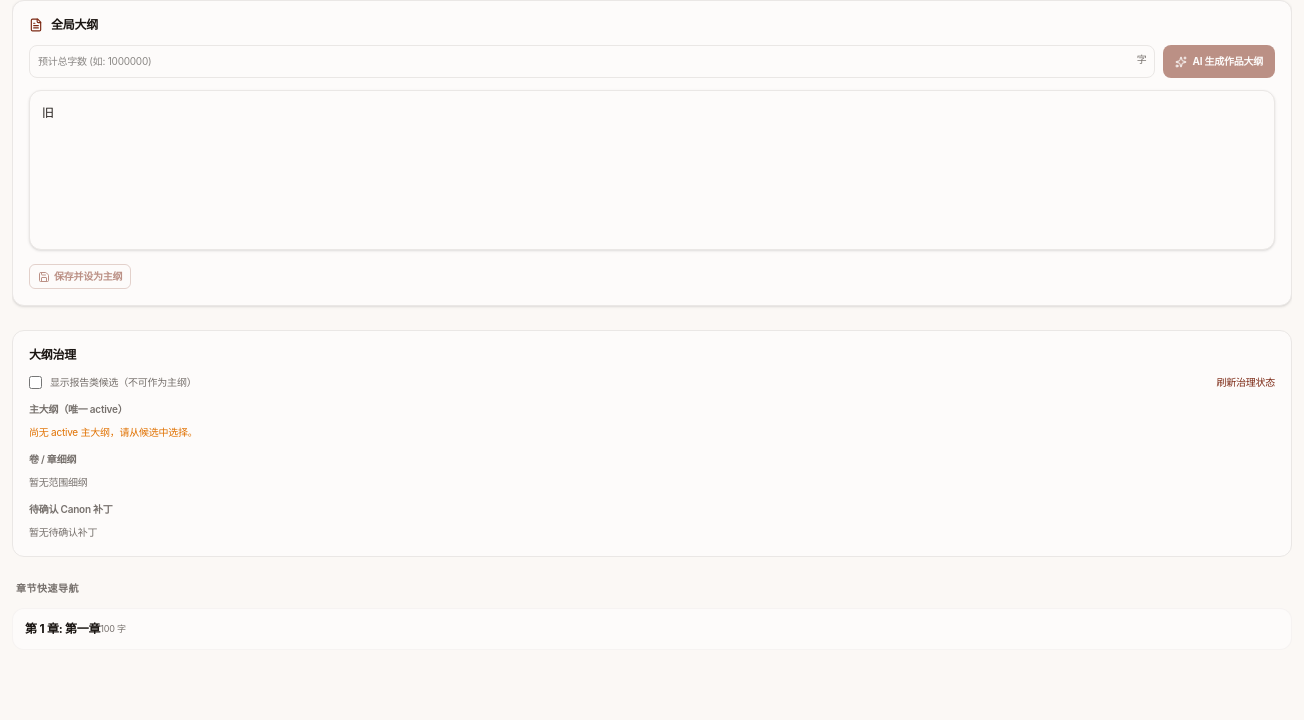
it: OutlineTab - Plan 135 Behavior Tests › reconciles activate rejection when candidate is active
Replace the text in the text box with "本地草稿" at (652, 170), box [29,90,1275,250]
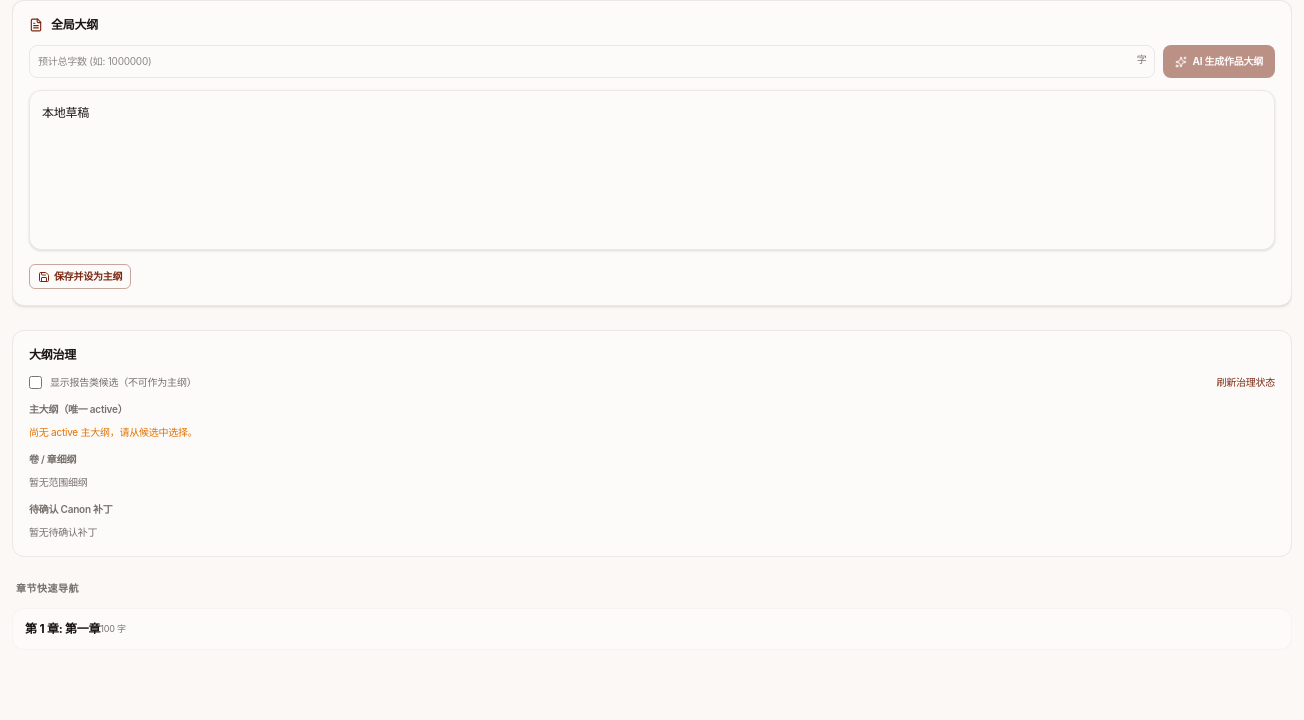
Click the button "保存并设为主纲" at (80, 276), box [29,264,131,289]
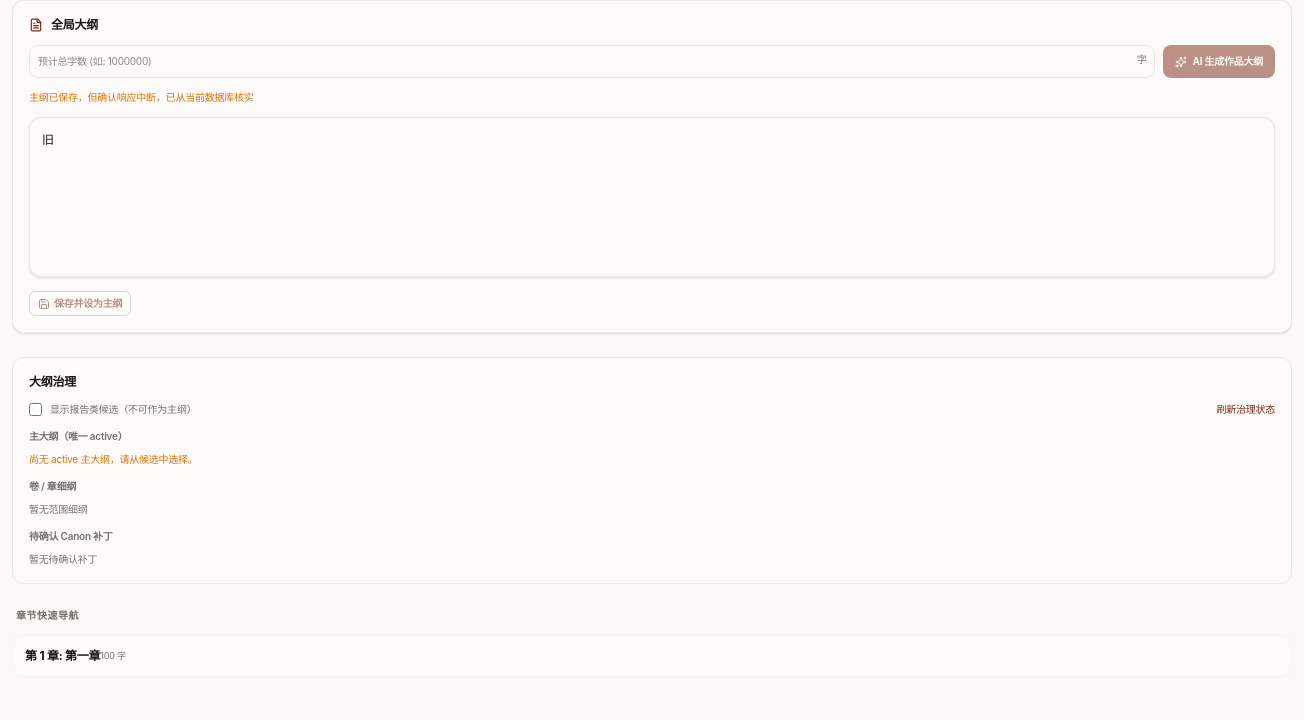
Expected: the text "主纲已保存，但确认响应中断，已从当前数据库核实" is shown, [29,91,254,103]
